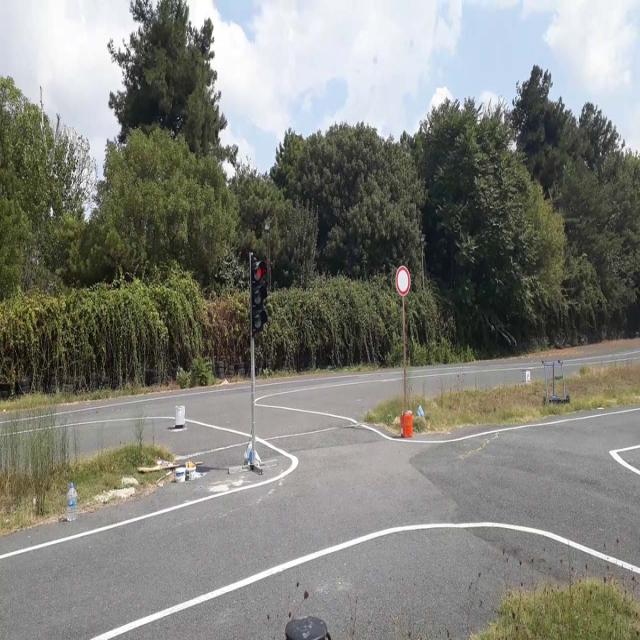kirmizi: (252, 260, 264, 330)
